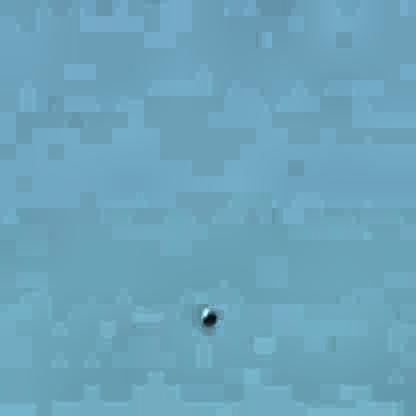golfball: (200, 304, 213, 322)
